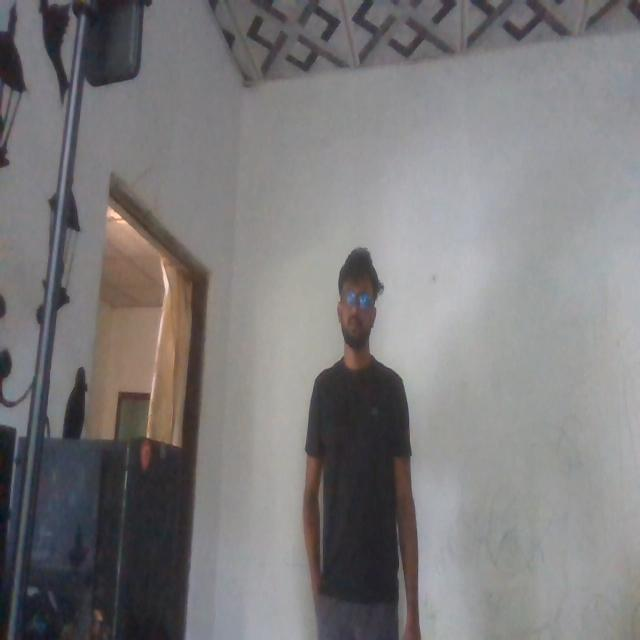Person: (303, 242, 421, 640)
